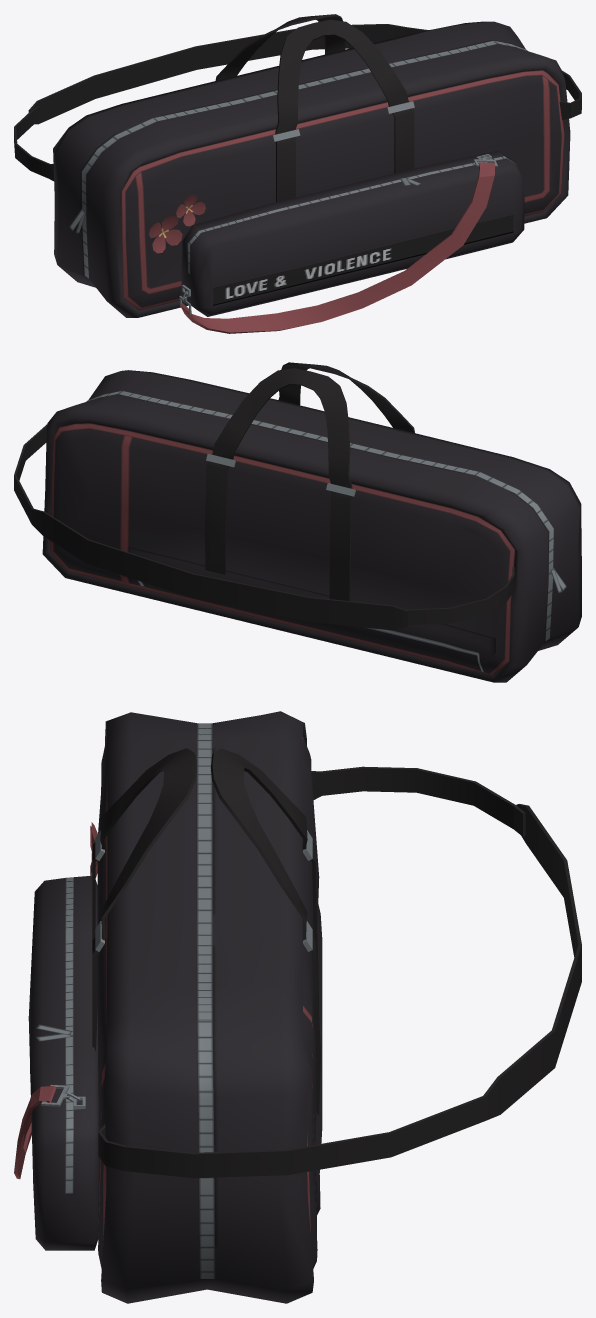
Rendered from Mutsuki_Bomb.fbx.
3 renders of one model, top to bottom at view 1: azimuth 30°, elevation 25°; view 2: azimuth 150°, elevation 25°; view 3: azimuth 270°, elevation 25°, orthographic. The views are drawn at different scales.
Visible parts, largest first — view 1: Mutsuki_Original_Bomb_Weapon; view 2: Mutsuki_Original_Bomb_Weapon; view 3: Mutsuki_Original_Bomb_Weapon.
Boxes of the visible parts, bbox=[...] form: Mutsuki_Original_Bomb_Weapon: bbox=[14, 14, 581, 333]; Mutsuki_Original_Bomb_Weapon: bbox=[14, 362, 581, 682]; Mutsuki_Original_Bomb_Weapon: bbox=[14, 711, 581, 1303].
Bounding box in the file's own units: 0.7539 × 0.3663 × 0.4616.
Materials: 1 (1 with a texture image).
